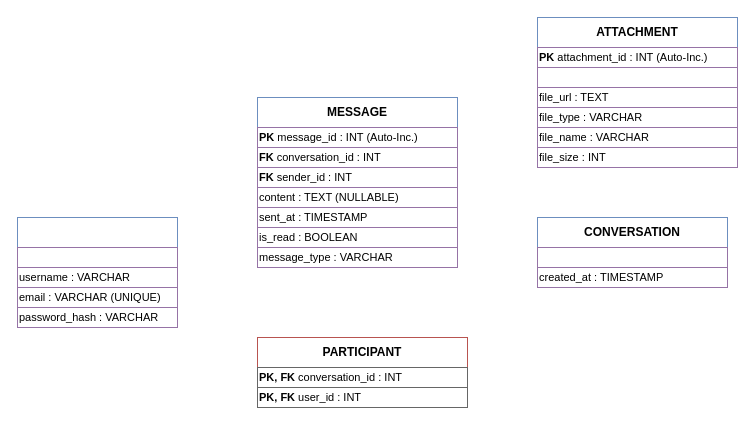
Some shapes in this 755 by 425 pixel diagram are drawn without their labels. Here are the shapes that lost their labels. From the top down, the centre of each, then its label:
At point (637, 77): "FK message_id : INT".
At point (97, 232): "USER".
At point (97, 257): "PK user_id : INT (Auto-Inc.)".
At point (632, 257): "PK conversation_id : INT (Auto-Inc.)".
